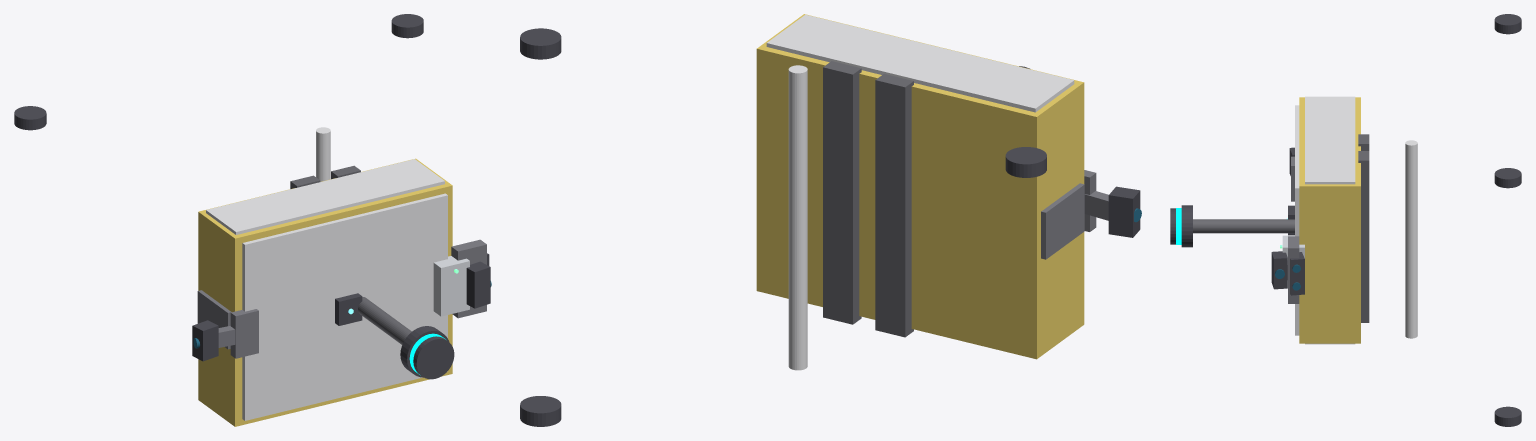
File: chassis.glb
3 views of the same model, side by side, from view 1: azimuth 30°, elevation 25°; view 2: azimuth 150°, elevation 25°; view 3: azimuth 270°, elevation 25° (orthographic). The views are drawn at different scales.
Parts seen in each view (by area): view 1: LB_chassis; view 2: LB_chassis; view 3: LB_chassis.
Boxes of the visible parts, x1,y1,x2,y2 form: LB_chassis: [14, 14, 491, 426]; LB_chassis: [520, 14, 1141, 426]; LB_chassis: [1170, 14, 1521, 426].
Bounding box in the file's own units: 1.4 × 0.975 × 1.25.
